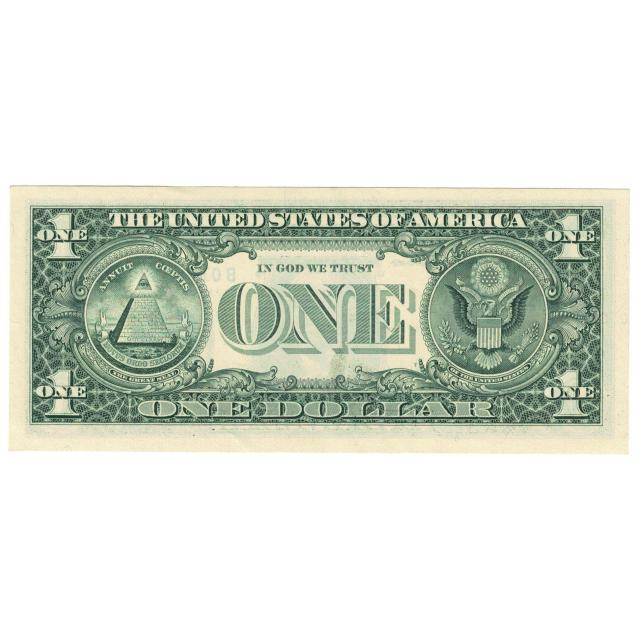1-Back: (5, 185, 627, 452)
